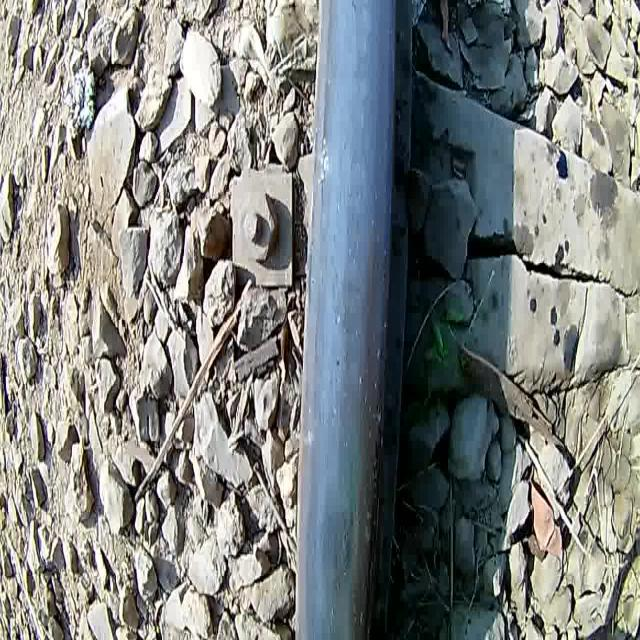Squats: (290, 479, 396, 622)
